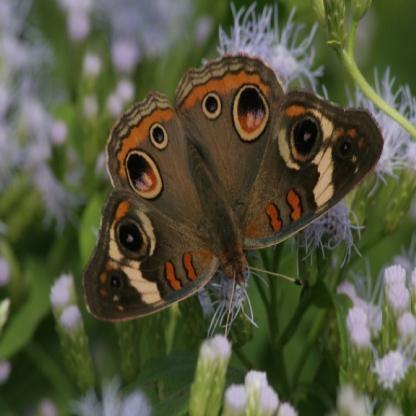Common Buckeye: (1, 1, 416, 416)
